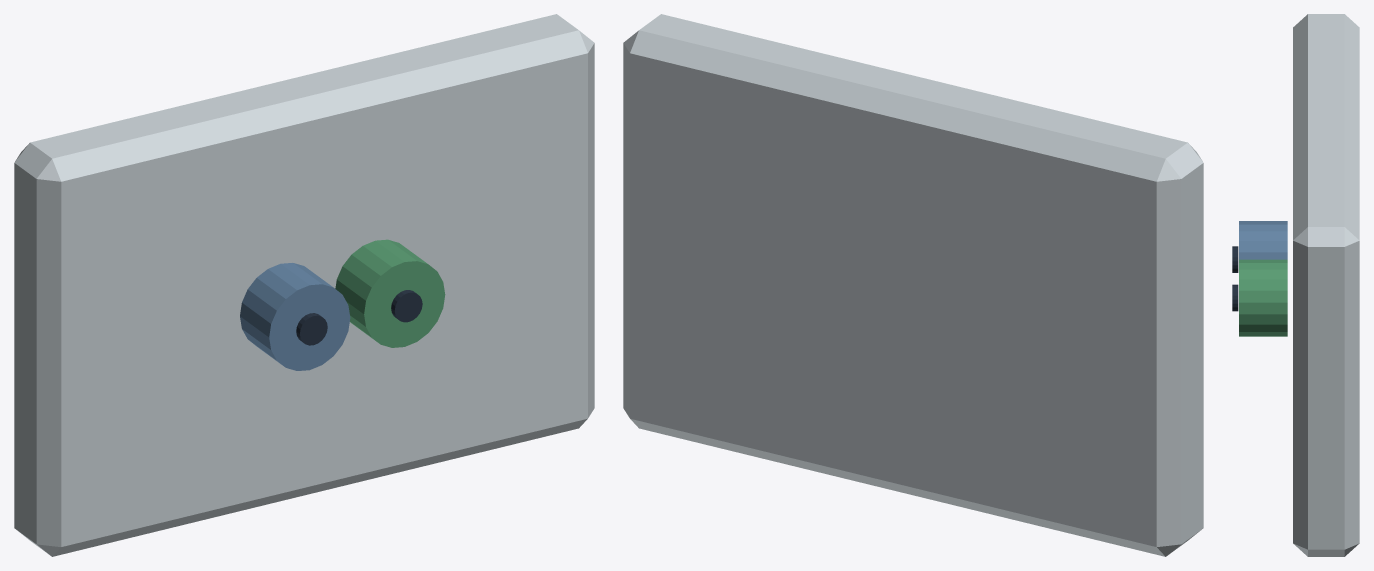
File: ward_04.glb
3 renders of one model, left to right at view 1: azimuth 30°, elevation 25°; view 2: azimuth 150°, elevation 25°; view 3: azimuth 270°, elevation 25°, orthographic. The views are drawn at different scales.
Parts seen in each view (by area): view 1: WallUnit, GasConnector (×2), Socket (×2); view 2: WallUnit; view 3: WallUnit, GasConnector (×2), Socket (×2).
Boxes of the visible parts, left/top/right/bottom form: WallUnit: left=14, top=14, right=594, bottom=556; GasConnector (×2): left=240, top=239, right=445, bottom=370; Socket (×2): left=296, top=290, right=422, bottom=345; WallUnit: left=623, top=14, right=1203, bottom=556; WallUnit: left=1293, top=14, right=1359, bottom=556; GasConnector (×2): left=1239, top=221, right=1287, bottom=336; Socket (×2): left=1232, top=246, right=1238, bottom=311.
Size of the model in its own units: 0.44 by 0.3 by 0.105.
